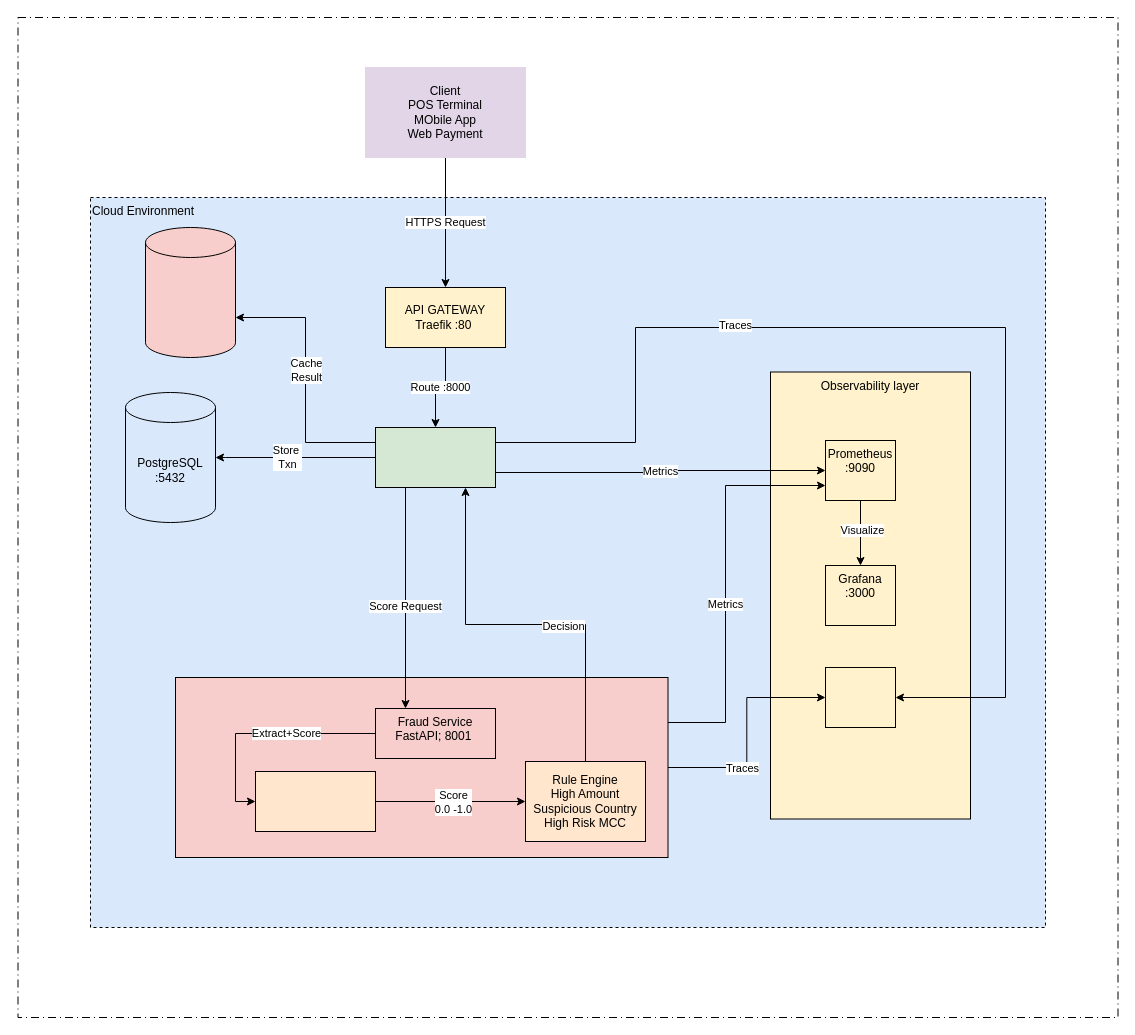
Image size: 1135x1035. Some labels were removed from this diagram. The shapes that lost their labels are listed below. From the top down, each one's box as (x1, y1, x2, y2) in pixels, then its label:
(144, 226, 236, 358): CACHE Redis: 6379
(374, 426, 496, 488): Auth Service FastAPI: 8000
(824, 666, 896, 728): Jaeger :16686
(254, 770, 376, 832): ML Scoring Engine Gradient Boosting Score: 0.0 - 1.0
